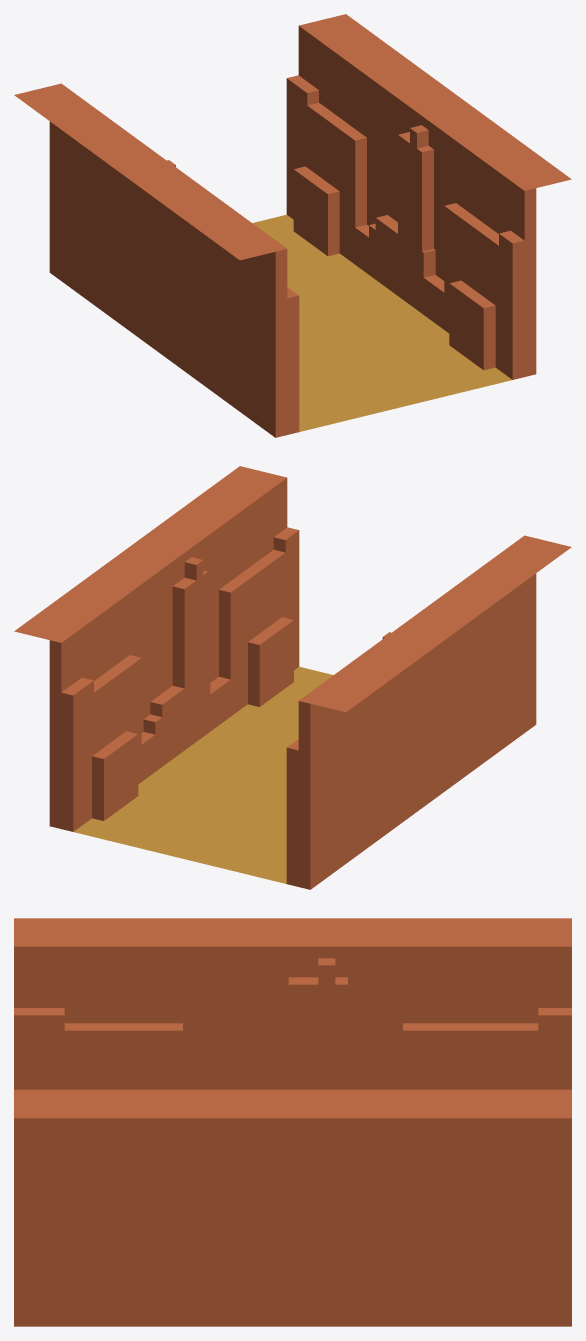
Rendered from ambiente cavallone.fbx.
The picture shows the model from 3 angles, top to bottom: view 1: azimuth 30°, elevation 25°; view 2: azimuth 150°, elevation 25°; view 3: azimuth 270°, elevation 25°; orthographic projection. The views are drawn at different scales.
Parts seen in each view (by area): view 1: Connect_1, Connect, pavimento, tetto_2, tetto_1; view 2: Connect_1, Connect, pavimento, tetto_2, tetto_1; view 3: Connect_1, Connect, tetto_2, tetto_1.
Part boxes in pixels (<box>): Connect_1: <box>286,22,536,379</box>; Connect: <box>49,83,299,437</box>; pavimento: <box>252,214,511,431</box>; tetto_2: <box>311,14,571,187</box>; tetto_1: <box>14,86,274,260</box>; Connect_1: <box>49,474,299,831</box>; Connect: <box>286,535,536,889</box>; pavimento: <box>74,666,333,883</box>; tetto_2: <box>14,466,274,639</box>; tetto_1: <box>311,538,571,712</box>; Connect_1: <box>14,1089,571,1326</box>; Connect: <box>14,939,571,1089</box>; tetto_2: <box>14,1097,571,1118</box>; tetto_1: <box>14,918,571,939</box>.
Bounding box in the file's own units: 5600 × 3000 × 6600.
